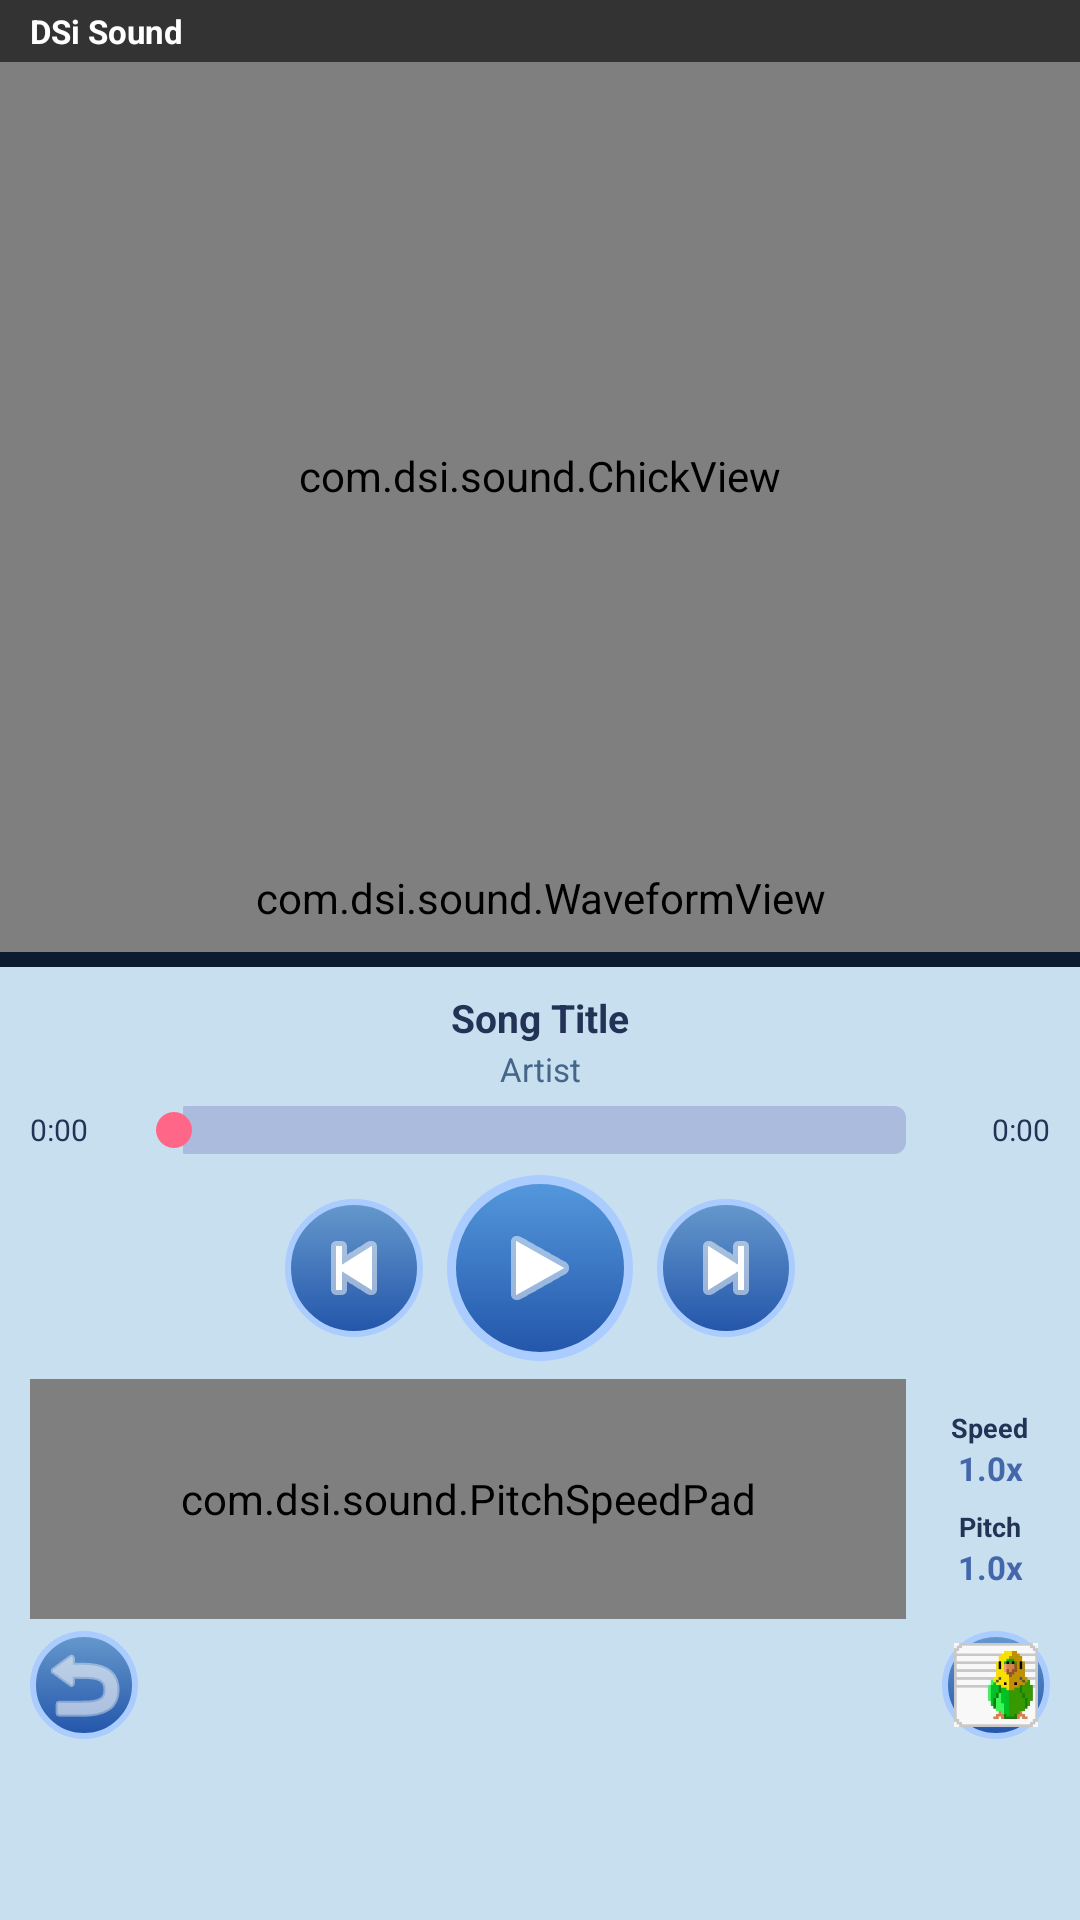

Icons on this 1080*1920 Android screen, each with its box as box(x1, y1, x2, y2):
Back: box(30, 1631, 138, 1739)
Next: box(657, 1199, 795, 1337)
Play: box(447, 1175, 633, 1361)
Previous: box(285, 1199, 423, 1337)
